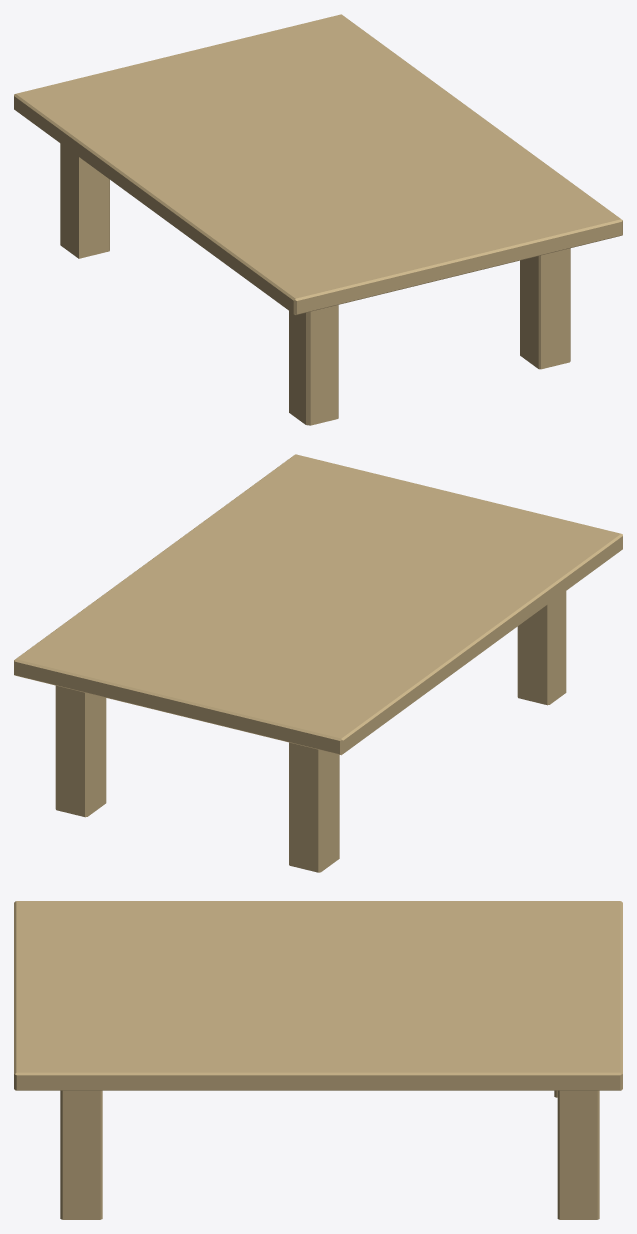
File: MesaSofas.fbx
3 renders of one model, top to bottom at view 1: azimuth 30°, elevation 25°; view 2: azimuth 150°, elevation 25°; view 3: azimuth 270°, elevation 25°, orthographic. The views are drawn at different scales.
Visible parts, largest first — view 1: MesaCafe2; view 2: MesaCafe2; view 3: MesaCafe2.
Boxes of the visible parts, x1=… form: MesaCafe2: x1=14, y1=14, x2=622, y2=425; MesaCafe2: x1=14, y1=454, x2=622, y2=872; MesaCafe2: x1=14, y1=901, x2=622, y2=1219.
Size of the model in its own units: 1.03 by 0.4492 by 1.53.
